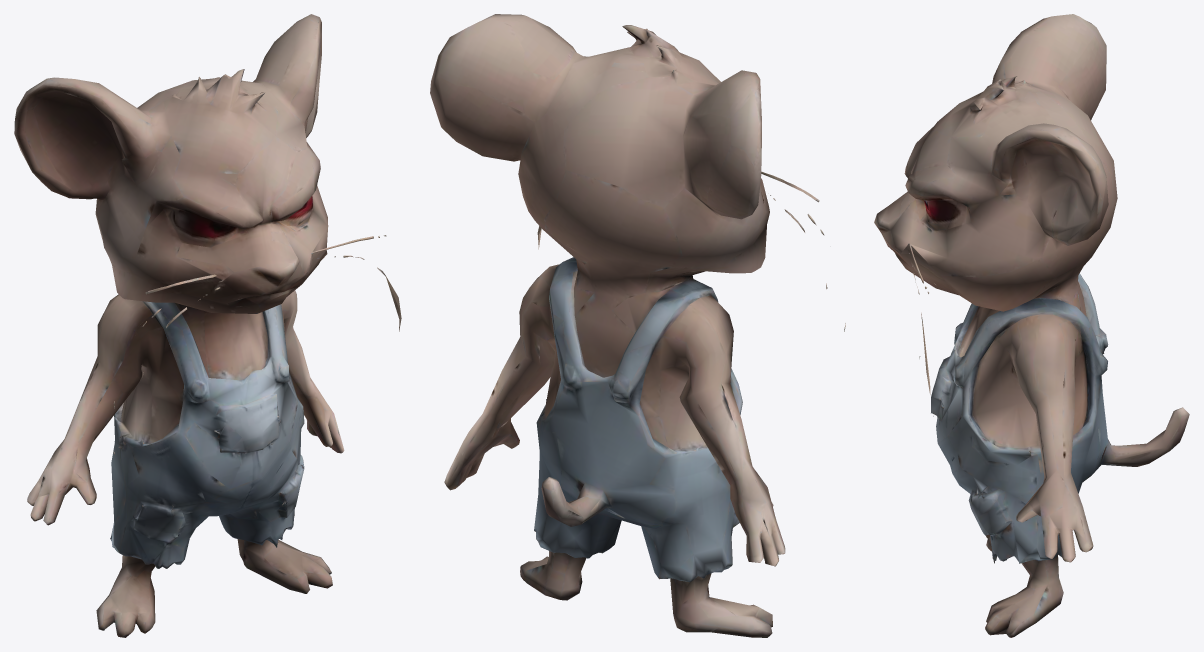
The model's file is curut_cemberut_lo.glb.
3 views of the same model, side by side, from view 1: azimuth 30°, elevation 25°; view 2: azimuth 150°, elevation 25°; view 3: azimuth 270°, elevation 25° (orthographic). The views are drawn at different scales.
Parts seen in each view (by area): view 1: tripo_node_700b598e-093e-4a98-9bf1-5b713394e43c; view 2: tripo_node_700b598e-093e-4a98-9bf1-5b713394e43c; view 3: tripo_node_700b598e-093e-4a98-9bf1-5b713394e43c.
Boxes of the visible parts, x1,y1,x2,y2 form: tripo_node_700b598e-093e-4a98-9bf1-5b713394e43c: [14, 14, 401, 637]; tripo_node_700b598e-093e-4a98-9bf1-5b713394e43c: [430, 14, 845, 637]; tripo_node_700b598e-093e-4a98-9bf1-5b713394e43c: [874, 14, 1189, 637].
Bounding box in the file's own units: 0.5938 × 0.9994 × 0.554.
1 material, 1 textured.
